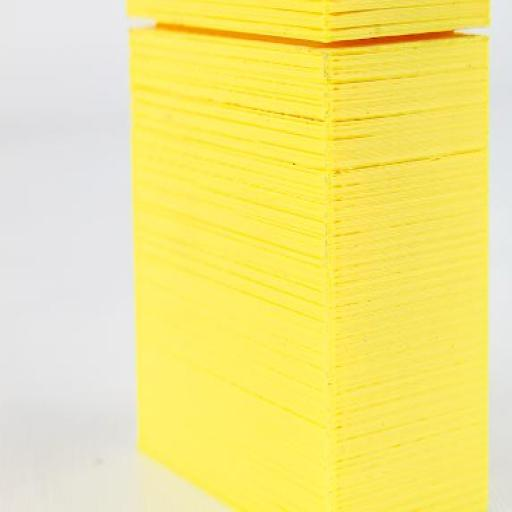cracks: (125, 6, 488, 61), (329, 146, 483, 238), (208, 94, 332, 133), (336, 110, 424, 146)
